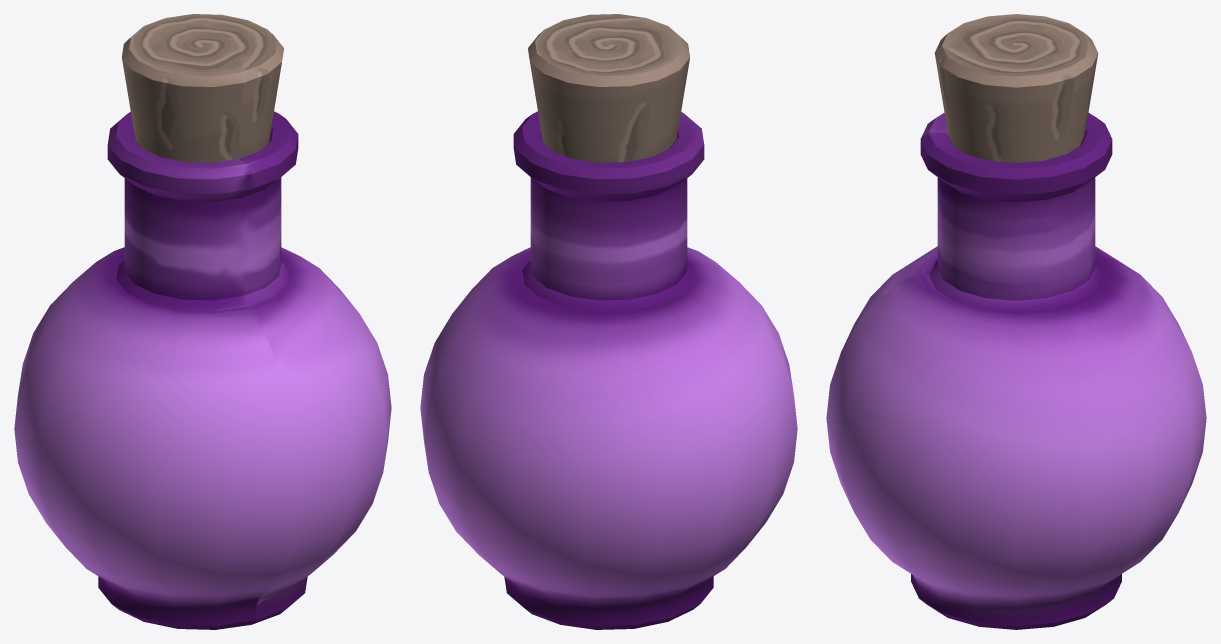
Rendered from PurplePotion.fbx.
The picture shows the model from 3 angles, left to right: view 1: azimuth 30°, elevation 25°; view 2: azimuth 150°, elevation 25°; view 3: azimuth 270°, elevation 25°; orthographic projection.
Visible parts, largest first — view 1: PurplePotion; view 2: PurplePotion; view 3: PurplePotion.
Part boxes in pixels (left/top/right/bottom): PurplePotion: left=14, top=14, right=391, bottom=629; PurplePotion: left=420, top=14, right=797, bottom=629; PurplePotion: left=826, top=14, right=1206, bottom=629.
Size of the model in its own units: 40 by 40 by 63.09.
1 material, 1 textured.
